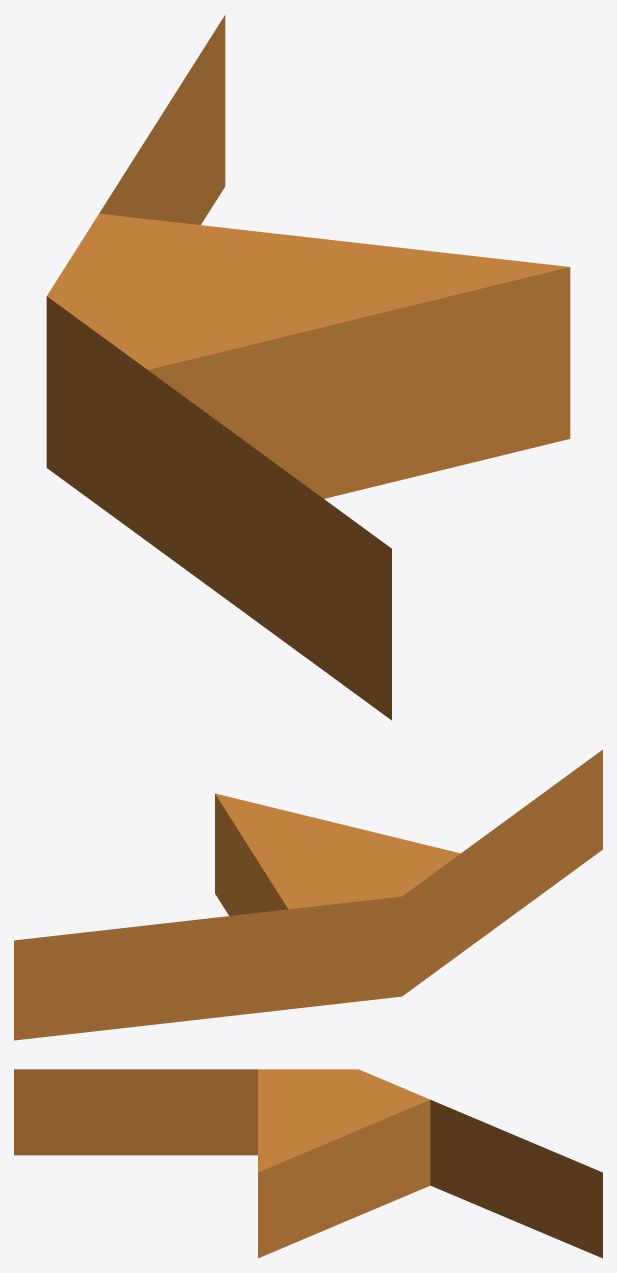
The picture shows the model from 3 angles, top to bottom: view 1: azimuth 30°, elevation 25°; view 2: azimuth 150°, elevation 25°; view 3: azimuth 270°, elevation 25°; orthographic projection. The views are drawn at different scales.
Visible parts, largest first — view 1: CORNER-A-13-p6; view 2: CORNER-A-13-p6; view 3: CORNER-A-13-p6.
Part boxes in pixels (x1,y1,x2,y2): CORNER-A-13-p6: [46, 15, 570, 720]; CORNER-A-13-p6: [14, 749, 602, 1040]; CORNER-A-13-p6: [14, 1069, 602, 1258].
Bounding box in the file's own units: 0.09 × 0.035 × 0.2174.
